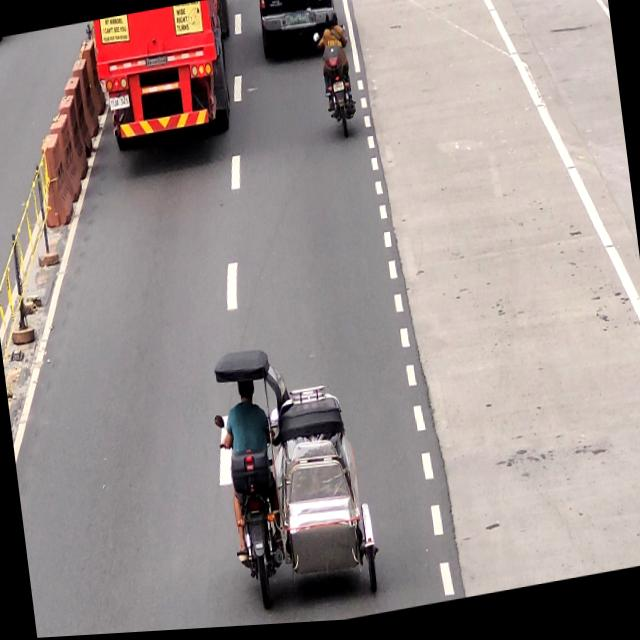License-Plate: (108, 93, 130, 111), (330, 83, 346, 98), (289, 15, 306, 27)
Motorcycle: (316, 10, 364, 154)
Tricycle: (205, 332, 389, 619)
Truck: (92, 0, 235, 151)
